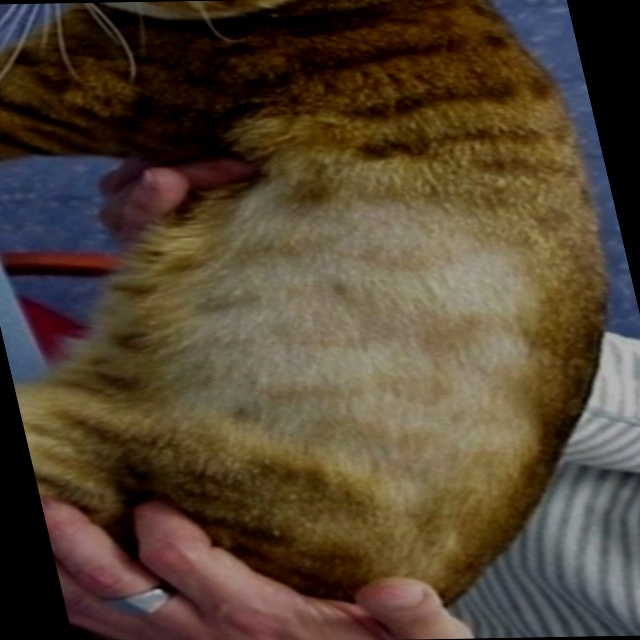hairloss: (133, 186, 597, 440)
